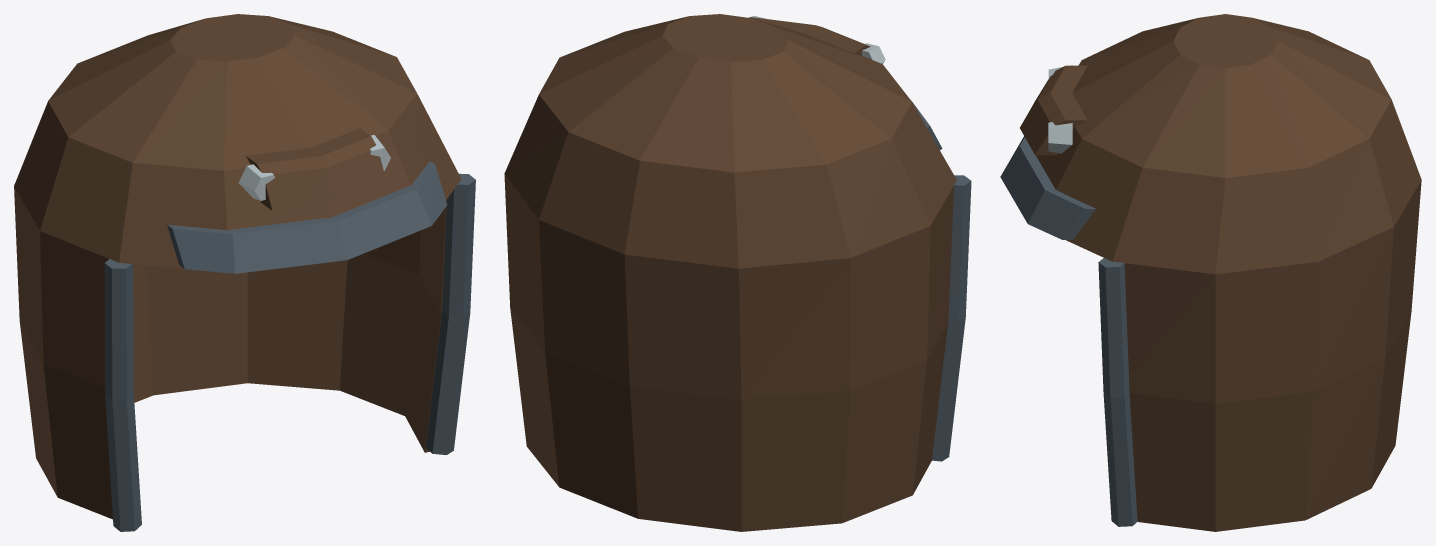
File: studded_head-male-thickHide.glb
The picture shows the model from 3 angles, left to right: view 1: azimuth 30°, elevation 25°; view 2: azimuth 150°, elevation 25°; view 3: azimuth 270°, elevation 25°; orthographic projection. The views are drawn at different scales.
Parts seen in each view (by area): view 1: studded joined crown and nape guard, Fitted brow binding, Bound face opening 1, Bound face opening -1, Heavy hide binding studded joined crown and nape guard, Set rivet studded joined crown and nape guard -1; view 2: studded joined crown and nape guard, Bound face opening -1, Heavy hide binding studded joined crown and nape guard; view 3: studded joined crown and nape guard, Bound face opening 1, Fitted brow binding, Heavy hide binding studded joined crown and nape guard, Set rivet studded joined crown and nape guard 1.
Boxes of the visible parts, bbox=[...] form: studded joined crown and nape guard: bbox=[14, 14, 461, 519]; Fitted brow binding: bbox=[167, 161, 447, 273]; Bound face opening 1: bbox=[426, 173, 475, 454]; Bound face opening -1: bbox=[104, 259, 141, 531]; Heavy hide binding studded joined crown and nape guard: bbox=[246, 128, 386, 210]; Set rivet studded joined crown and nape guard -1: bbox=[238, 164, 275, 200]; studded joined crown and nape guard: bbox=[504, 14, 956, 531]; Bound face opening -1: bbox=[932, 175, 971, 461]; Heavy hide binding studded joined crown and nape guard: bbox=[749, 17, 870, 55]; studded joined crown and nape guard: bbox=[1036, 14, 1421, 531]; Bound face opening 1: bbox=[1098, 258, 1137, 526]; Fitted brow binding: bbox=[1000, 136, 1095, 239]; Heavy hide binding studded joined crown and nape guard: bbox=[1020, 65, 1087, 155]; Set rivet studded joined crown and nape guard 1: bbox=[1048, 122, 1072, 153].
Size of the model in its own units: 1.12 by 1.12 by 1.05.
